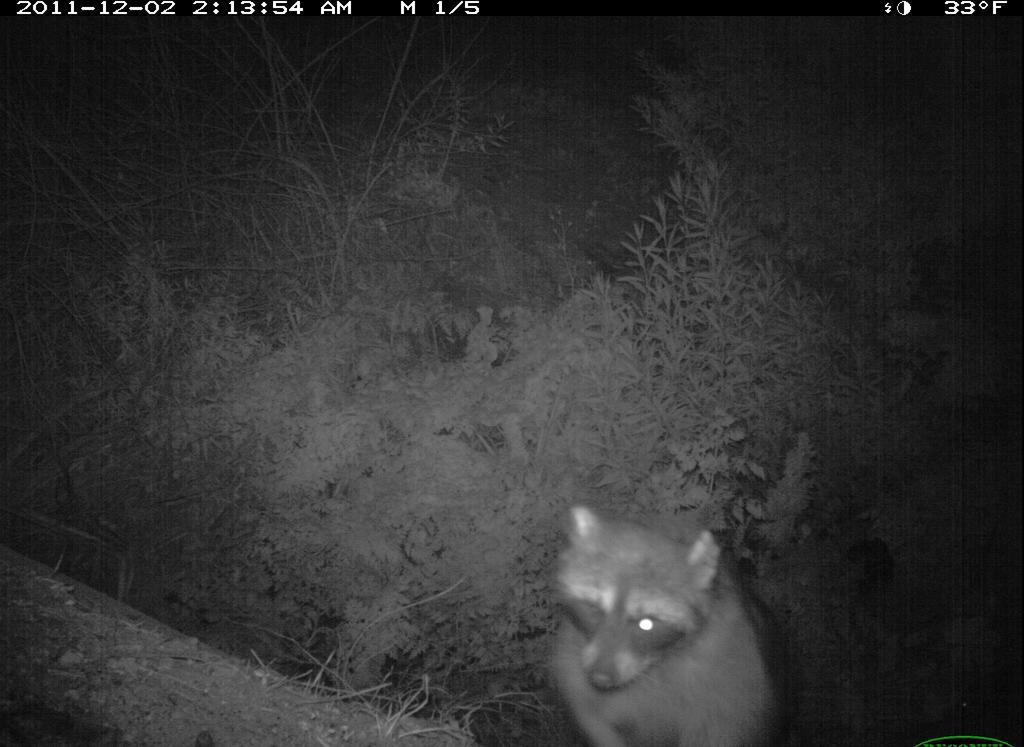raccoon: (530, 484, 797, 747)
